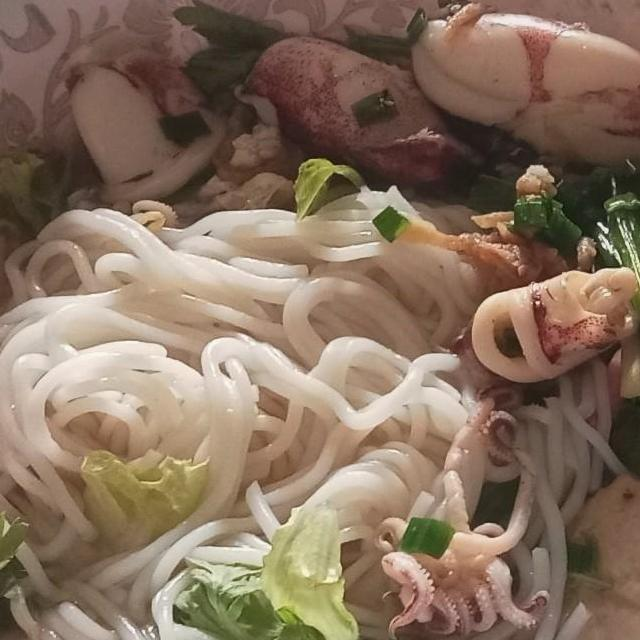bun: (0, 168, 636, 640)
muc: (366, 383, 562, 640), (228, 32, 498, 198), (402, 0, 640, 179), (57, 38, 247, 220), (463, 259, 640, 388)
